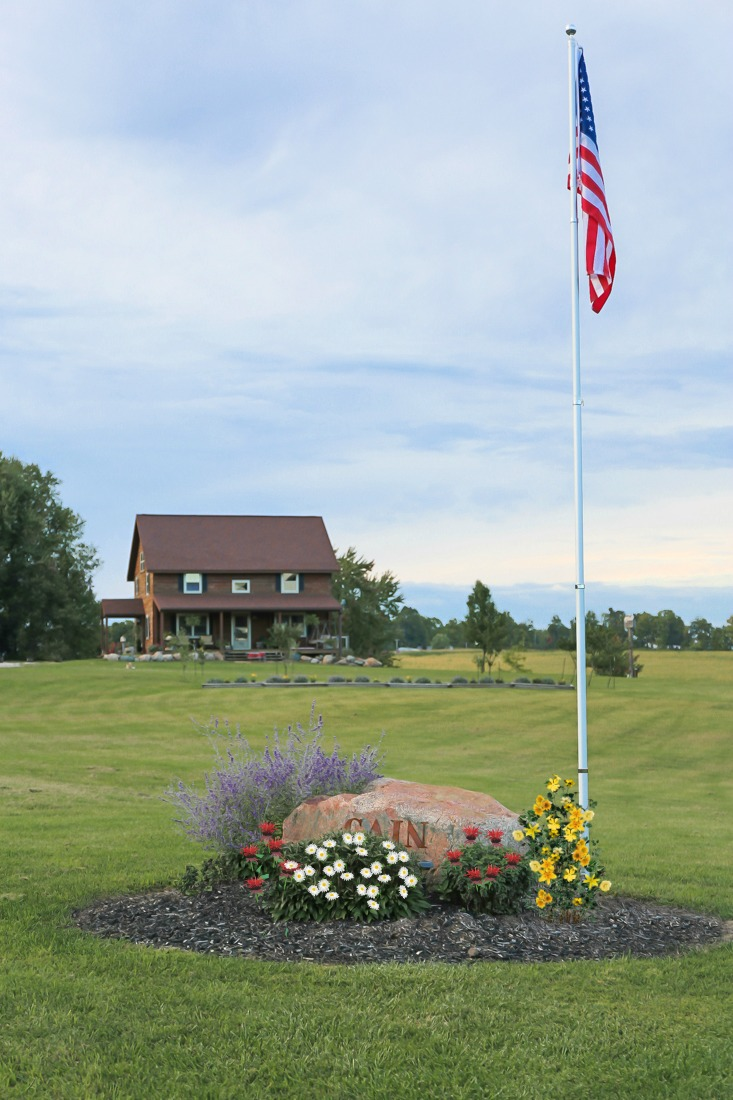Flag: (557, 38, 622, 323)
